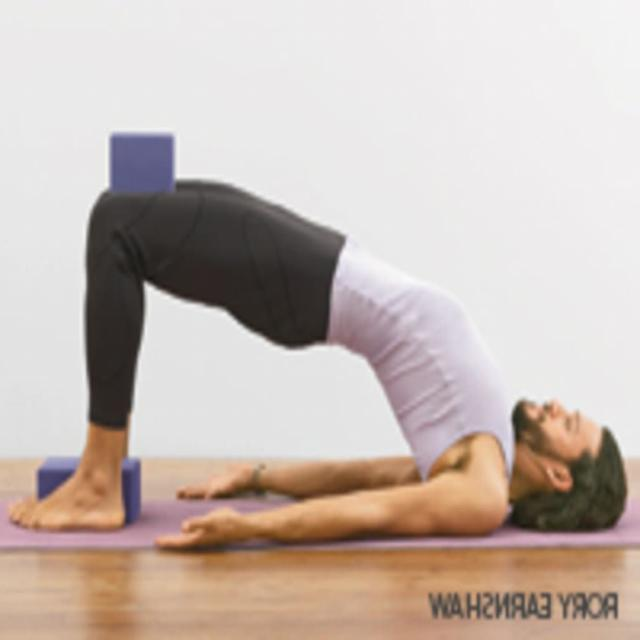yoga-pose bridge: (11, 174, 609, 547)
